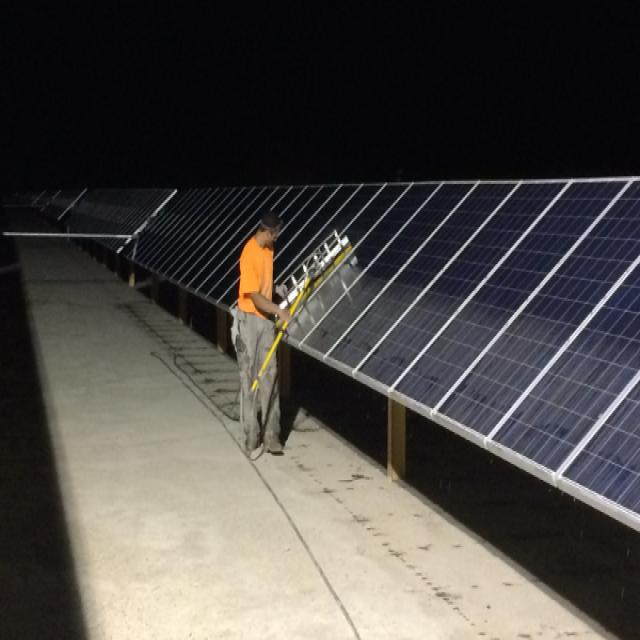clean-solar-panel: (123, 182, 640, 356)
dust-solar-panel: (282, 263, 640, 530)
